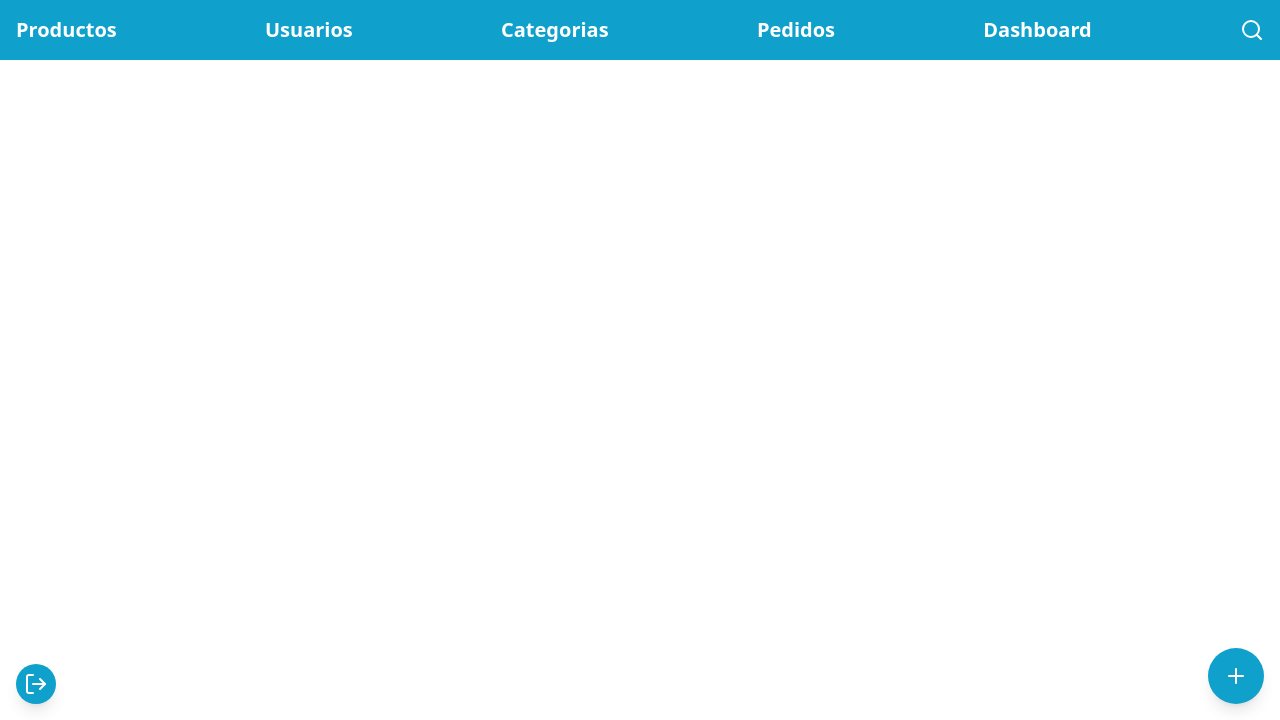
Scenario: Navigation Component › abre y cierra la barra de búsqueda correctamente
The image size is (1280, 720).
Click the element named "abrir búsqueda": click(1252, 30) [1240, 18, 1264, 42]
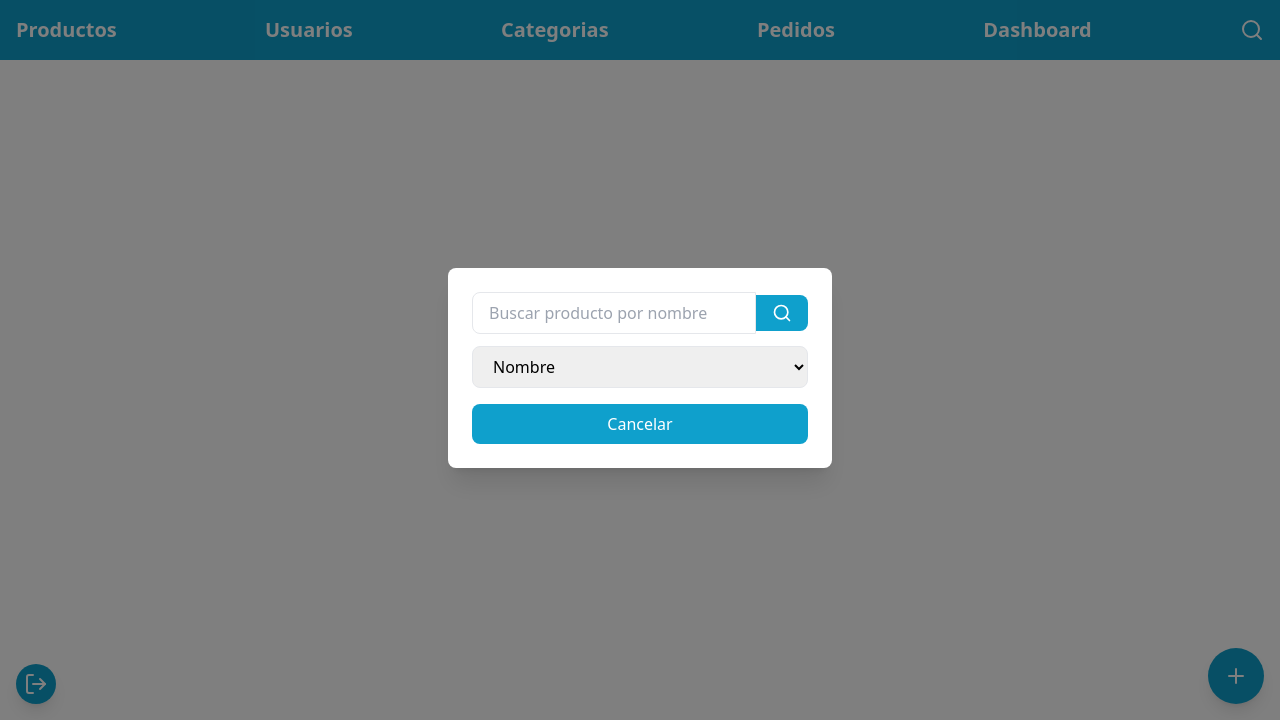
Now the field with placeholder "Buscar producto por nombre" is shown, box [472, 292, 756, 334]
Click the button "Cancelar": click(640, 424) [472, 404, 808, 444]
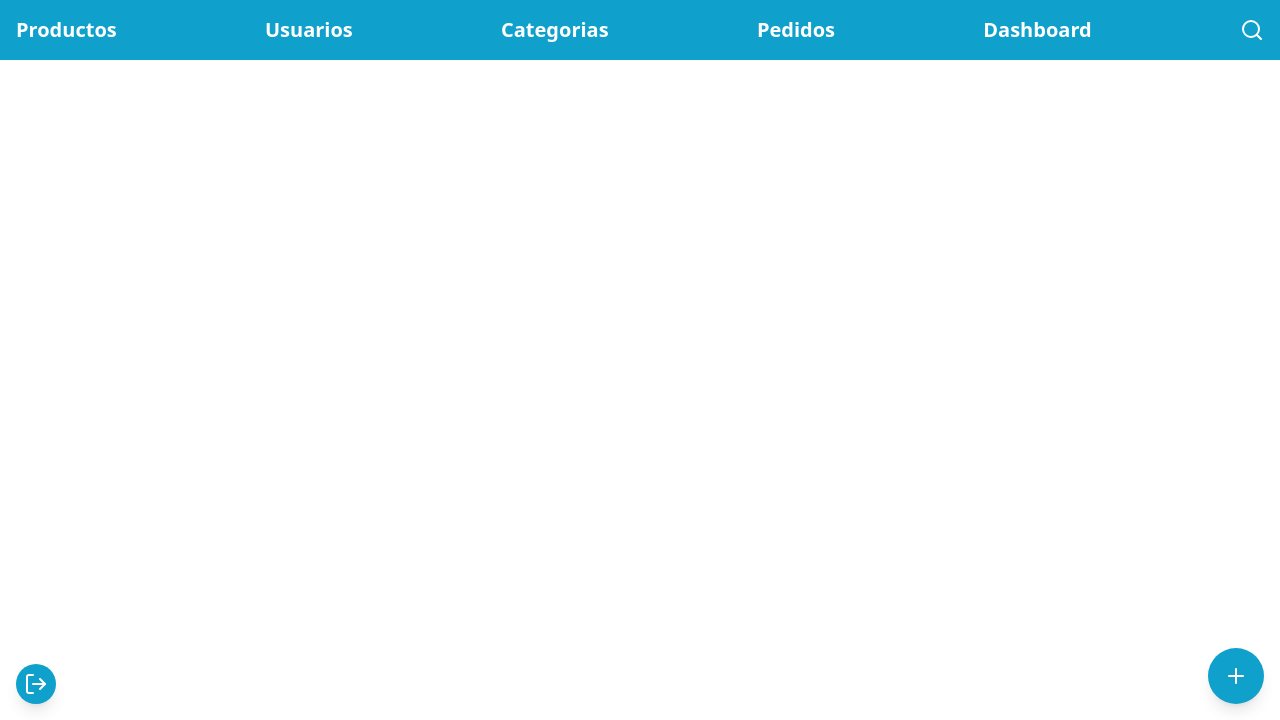
Now the button "Cancelar" is gone
